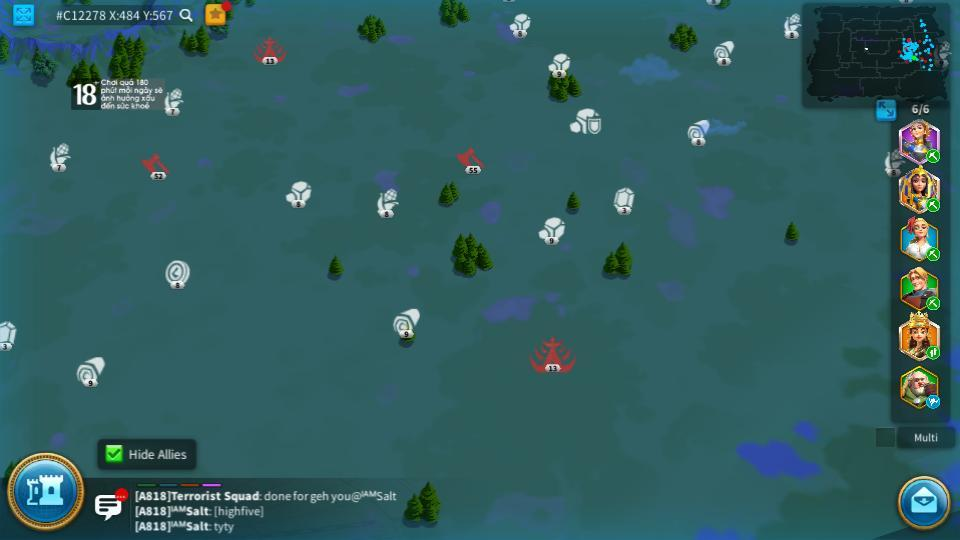gem-z-out: (611, 186, 636, 213)
march_farming: (924, 197, 939, 212), (925, 248, 941, 260)
march_idle: (925, 396, 942, 408)
march_marching: (925, 347, 941, 359), (925, 150, 941, 162), (925, 297, 942, 308)
